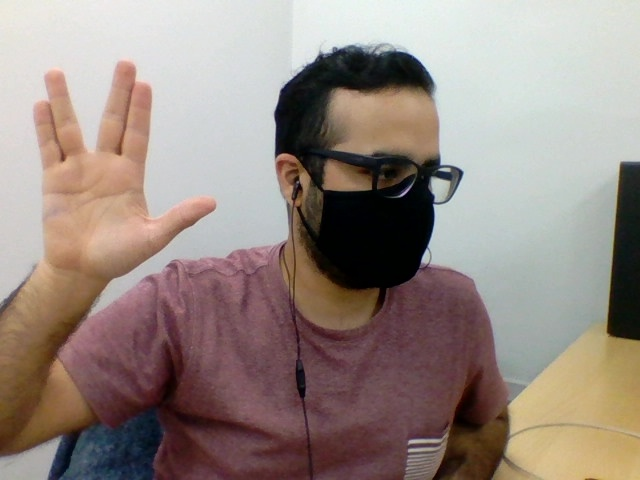LiveLong: (32, 60, 216, 279)
